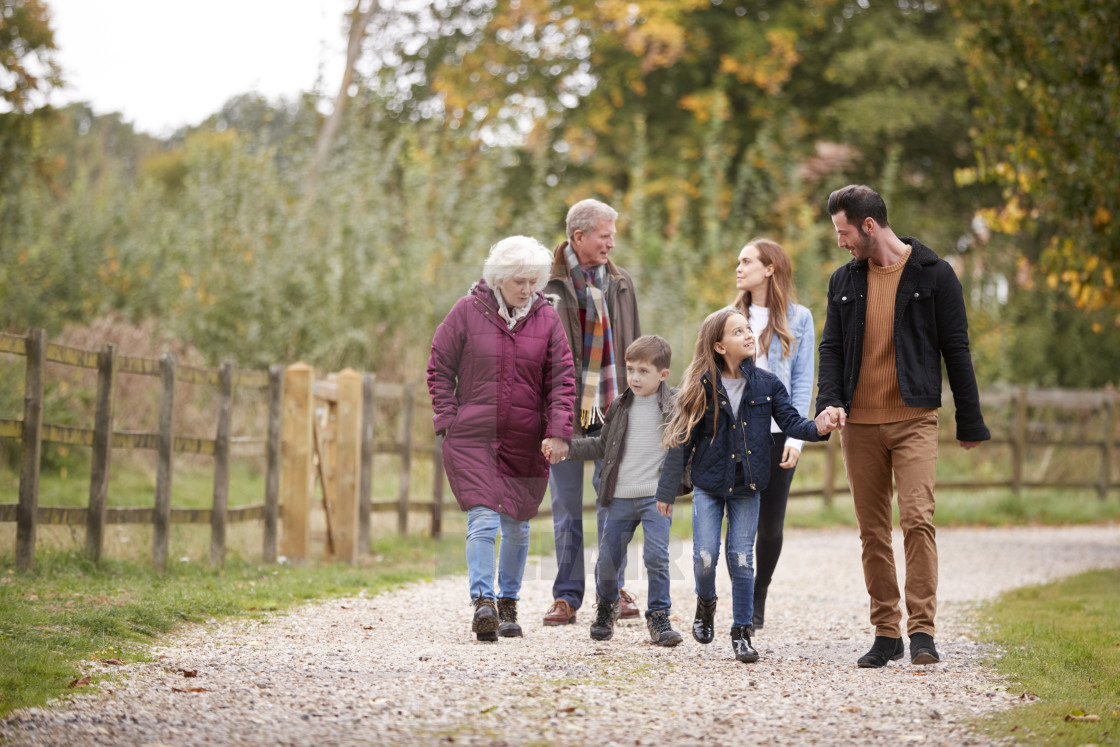Person: (801, 187, 1009, 685), (647, 305, 853, 677), (675, 225, 823, 673), (413, 229, 571, 637), (533, 329, 701, 677)
